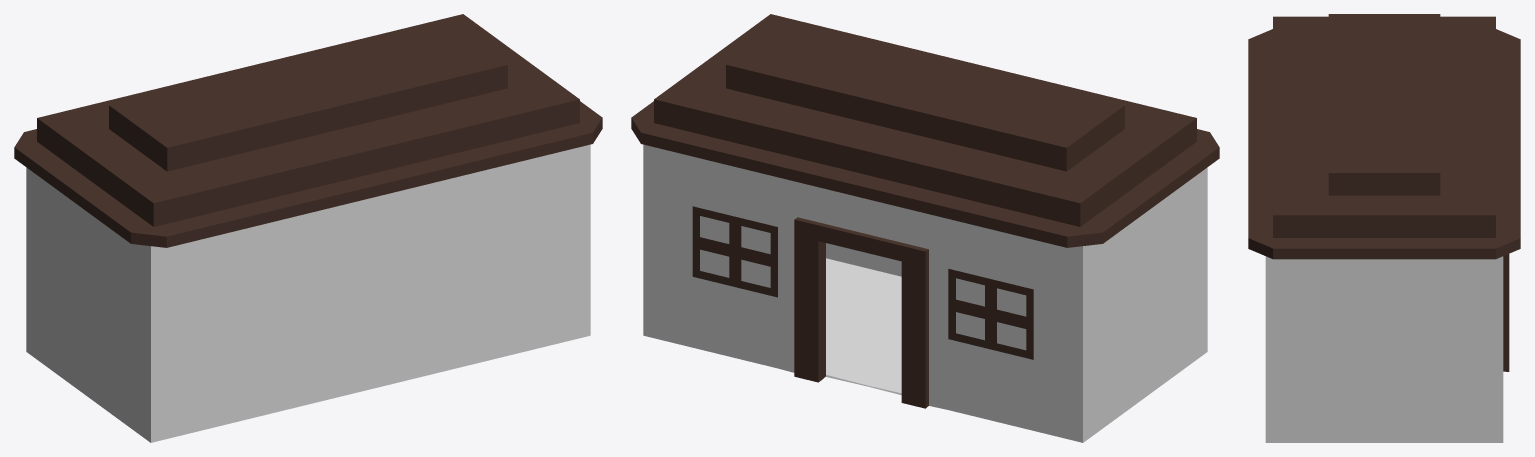
The model's file is house.fbx.
The picture shows the model from 3 angles, left to right: view 1: azimuth 30°, elevation 25°; view 2: azimuth 150°, elevation 25°; view 3: azimuth 270°, elevation 25°; orthographic projection. The views are drawn at different scales.
Parts seen in each view (by area): view 1: House; view 2: House; view 3: House.
Part boxes in pixels (<box>): House: <box>14,14,602,442</box>; House: <box>631,14,1219,442</box>; House: <box>1248,14,1520,442</box>.
Bounding box in the file's own units: 1040 × 548 × 546.
Materials: 4 (1 with a texture image).
